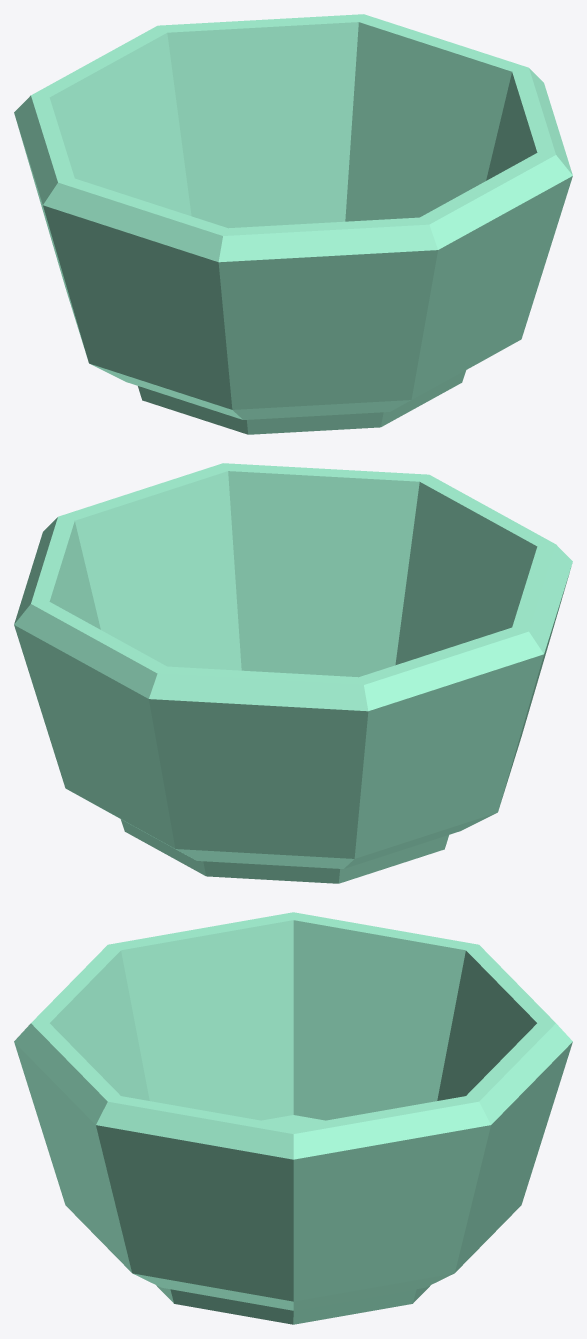
Rendered from Food_Bowl_White.fbx.
3 views of the same model, one above another, from view 1: azimuth 30°, elevation 25°; view 2: azimuth 150°, elevation 25°; view 3: azimuth 270°, elevation 25° (orthographic). The views are drawn at different scales.
Parts seen in each view (by area): view 1: Cup.002; view 2: Cup.002; view 3: Cup.002.
Part boxes in pixels (x1,y1,x2,y2): Cup.002: (14, 14, 572, 434); Cup.002: (14, 463, 572, 883); Cup.002: (14, 912, 572, 1324).
Bounding box in the file's own units: 16.32 × 7.42 × 16.32.
